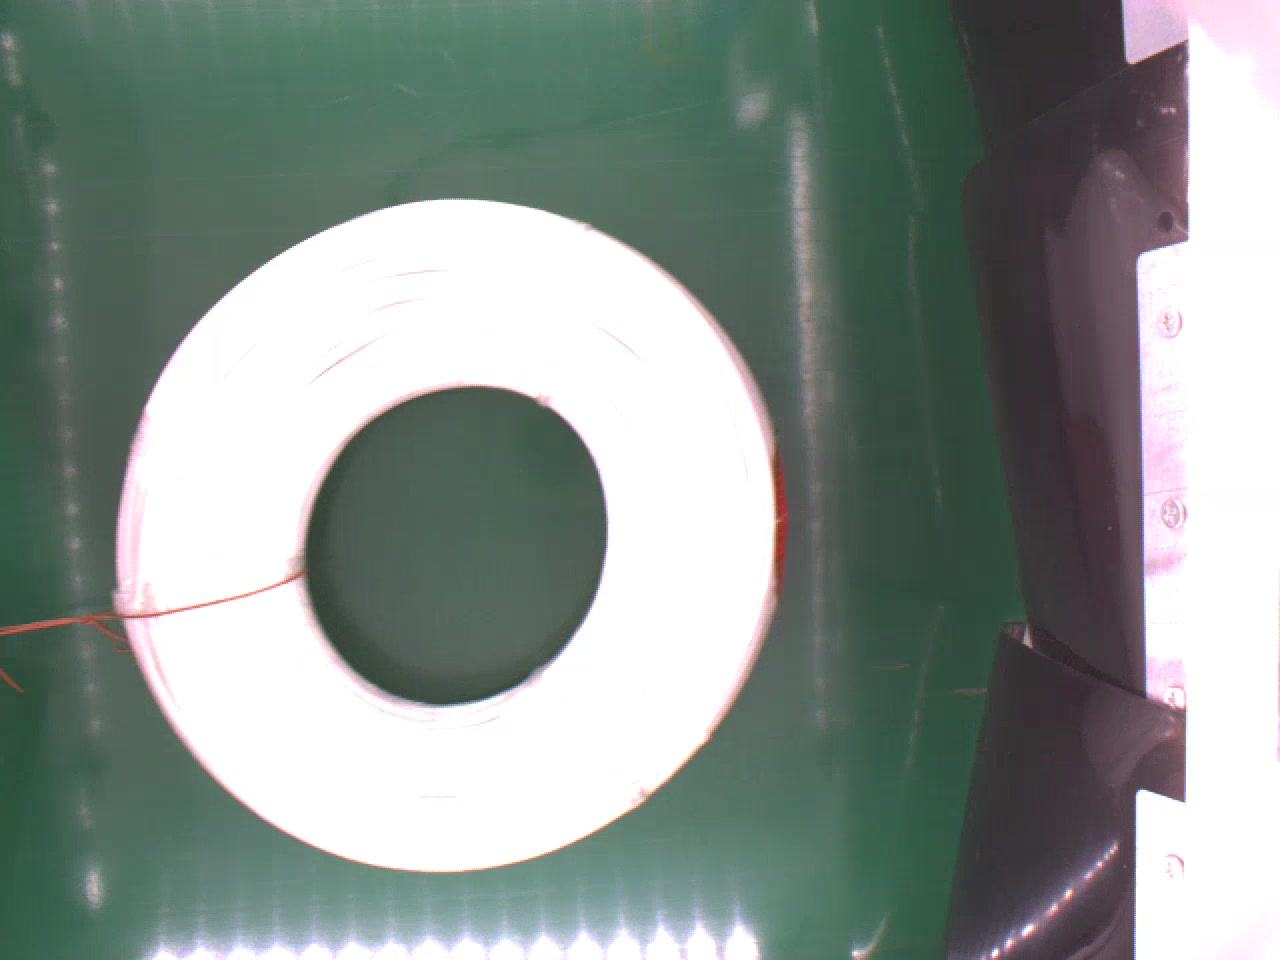white: (114, 194, 790, 877)
